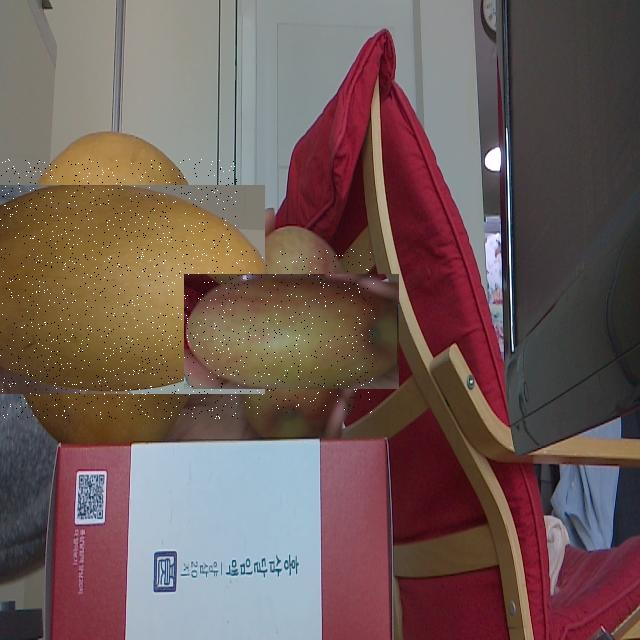apple: (209, 249, 375, 414)
pear: (0, 159, 239, 419)
